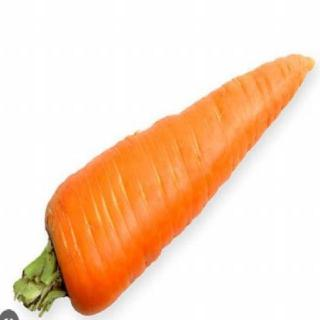carrot: (45, 46, 318, 316)
